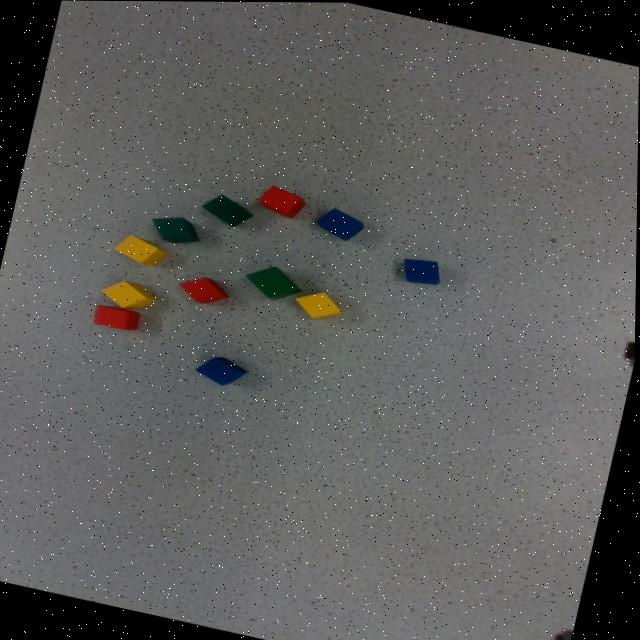blue_cube: (197, 348, 246, 390), (316, 202, 364, 242), (403, 257, 440, 282)
green_cube: (246, 254, 302, 309), (201, 187, 254, 230), (152, 214, 200, 243)
red_cube: (257, 182, 307, 218), (180, 272, 229, 304), (94, 303, 141, 330)
yellow_cube: (102, 268, 157, 320), (115, 229, 168, 270), (296, 288, 343, 318)
